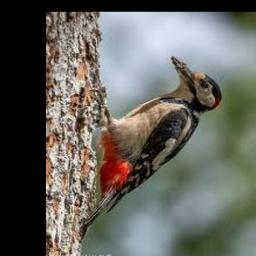Woodpecker: (79, 56, 222, 240)
